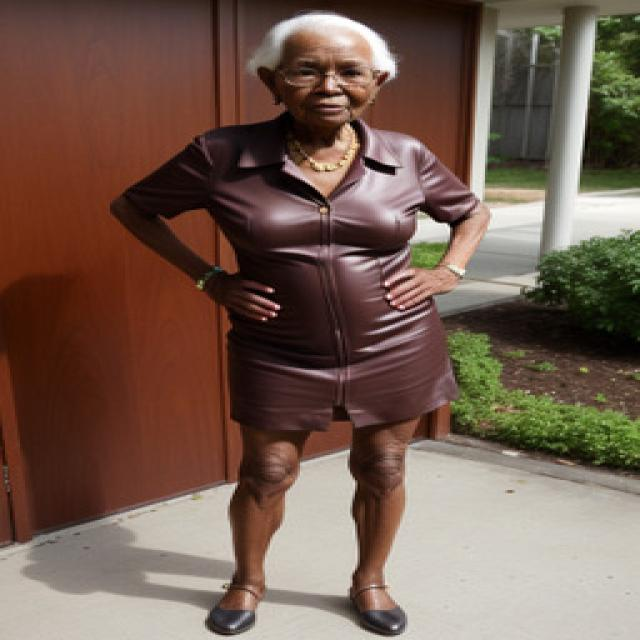Ai human 2: (100, 5, 520, 635)
